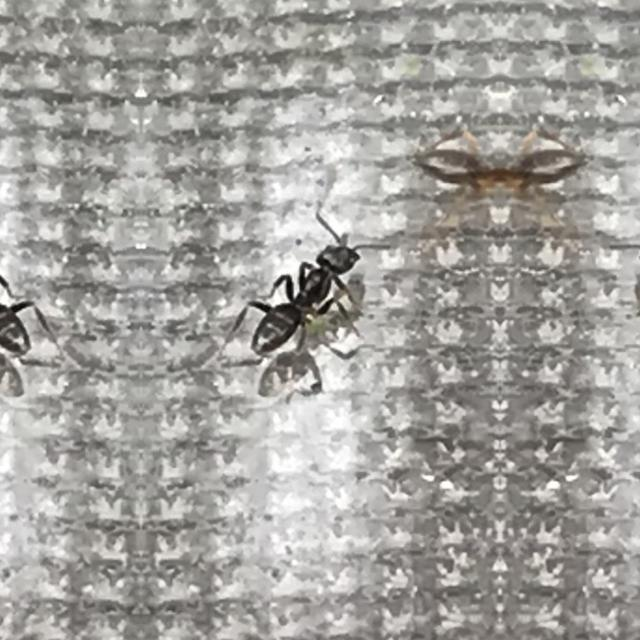Tapinoma: (232, 200, 368, 402), (0, 198, 48, 402)
